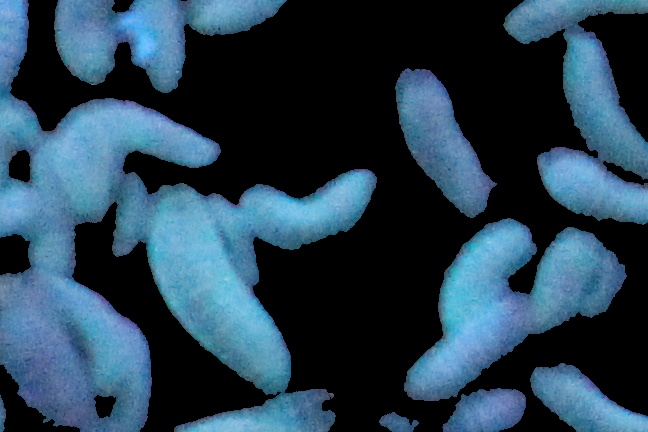larvae: (143, 187, 297, 400), (47, 97, 234, 193), (397, 56, 503, 217), (398, 292, 544, 407), (1, 268, 100, 432), (543, 29, 648, 170), (233, 168, 393, 252), (430, 205, 526, 319), (48, 278, 136, 391), (530, 357, 648, 430), (537, 145, 648, 221), (533, 222, 601, 330), (183, 1, 328, 46), (48, 1, 126, 81), (1, 1, 31, 126)
